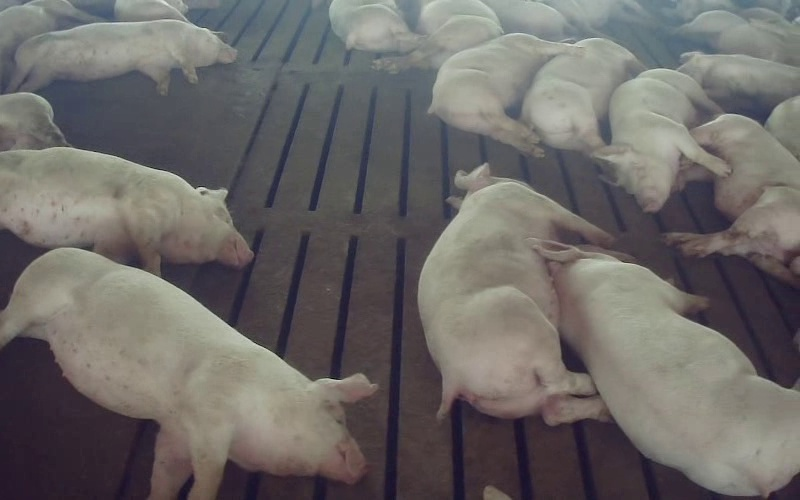pig: (533, 239, 799, 495), (418, 164, 611, 424), (665, 115, 799, 287), (592, 69, 729, 212), (428, 33, 580, 156), (7, 20, 236, 94), (521, 38, 643, 155), (373, 0, 502, 72), (678, 53, 799, 107), (329, 0, 419, 52)
